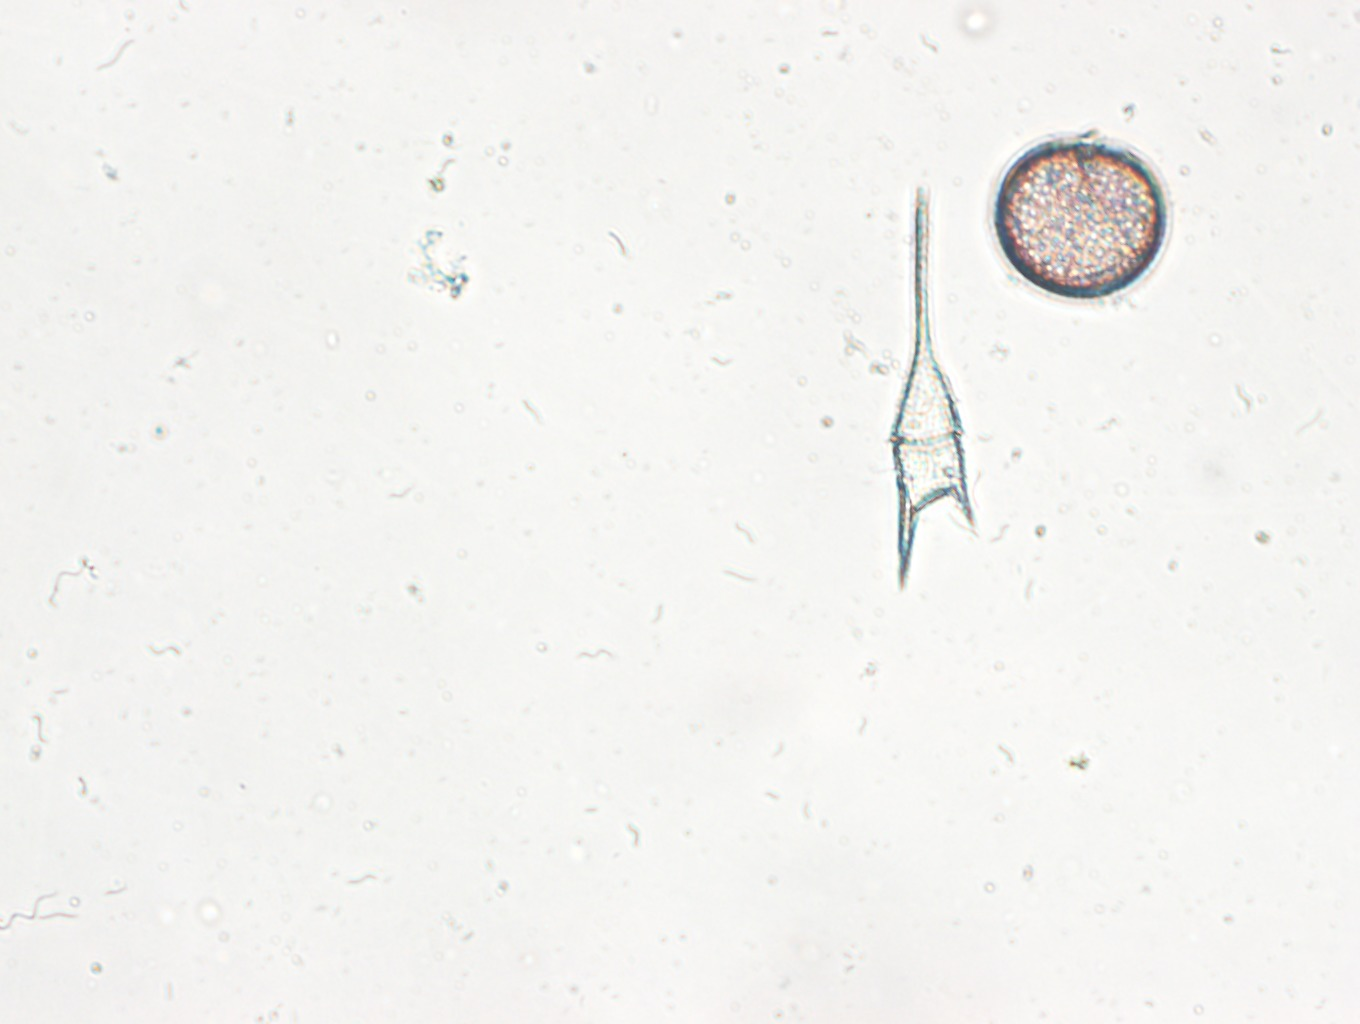ceratium furca: (883, 183, 985, 591)
coscinodiscus: (984, 132, 1179, 308)
